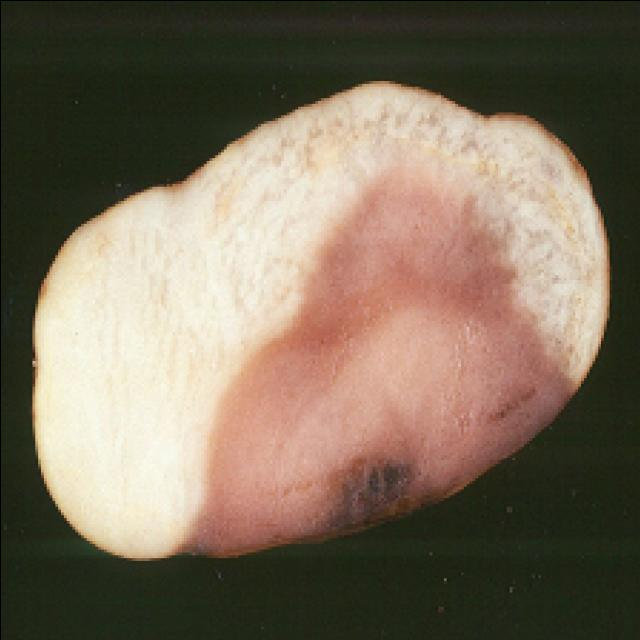pink_rot: (17, 65, 620, 572)
